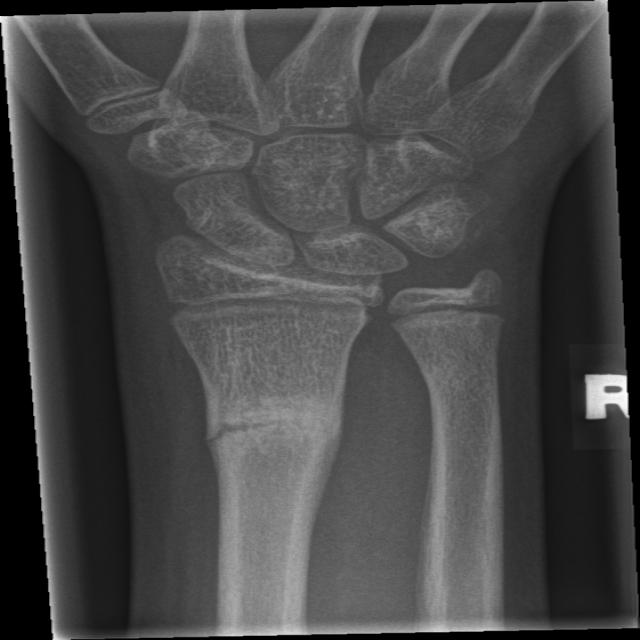radius fracture: (139, 348, 395, 563)
